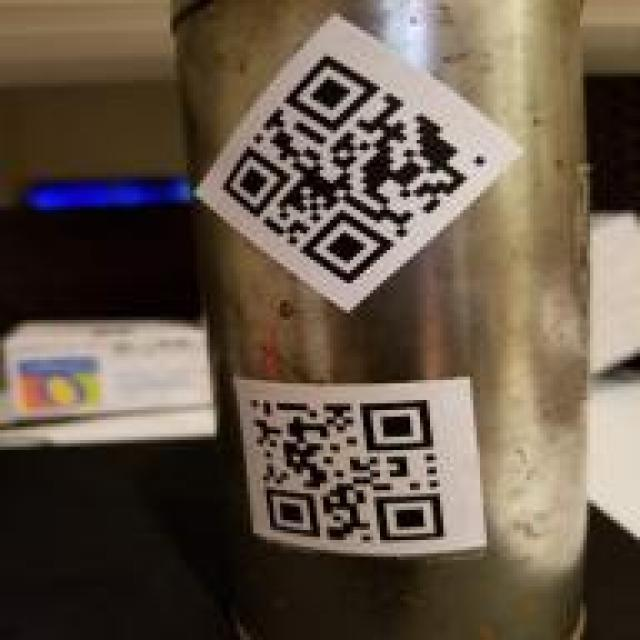qr_code: (221, 53, 490, 284), (248, 399, 445, 545)
